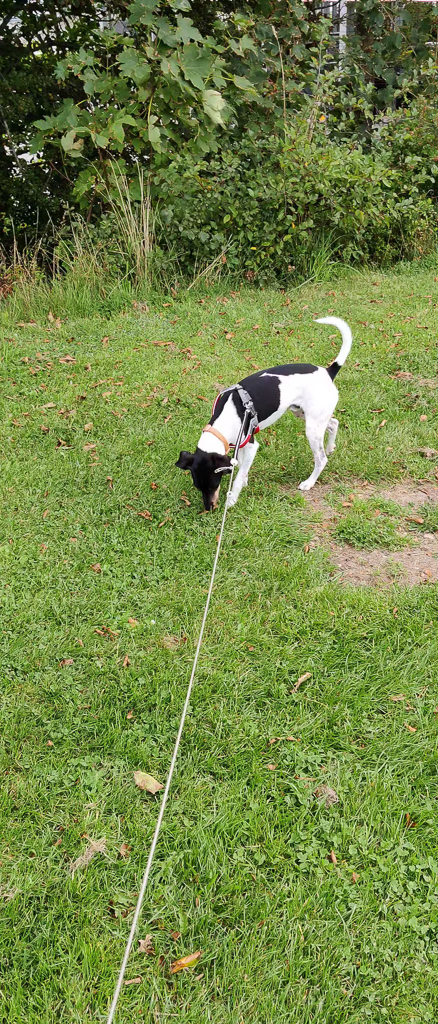Dog: (166, 309, 367, 517)
